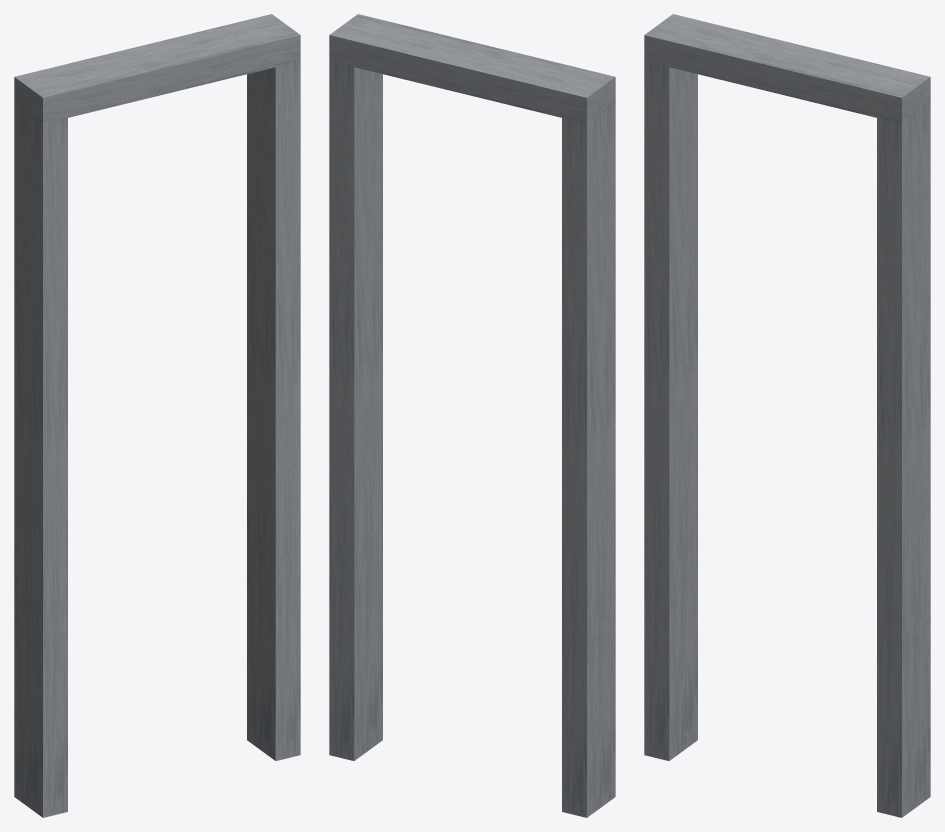
Rendered from cerca-04.obj.
The picture shows the model from 3 angles, left to right: view 1: azimuth 30°, elevation 25°; view 2: azimuth 150°, elevation 25°; view 3: azimuth 330°, elevation 25°; orthographic projection.
Visible parts, largest first — view 1: Box020, Box019, Box021; view 2: Box020, Box019, Box021; view 3: Box019, Box020, Box021.
Boxes of the visible parts, <box> form: Box020: <box>14,101,67,817</box>; Box019: <box>247,59,300,760</box>; Box021: <box>14,14,300,122</box>; Box020: <box>562,102,615,817</box>; Box019: <box>329,59,382,760</box>; Box021: <box>329,14,615,122</box>; Box019: <box>877,102,930,817</box>; Box020: <box>644,59,697,760</box>; Box021: <box>644,14,930,122</box>.
Bounding box in the file's own units: 15.5 × 41.4 × 3.
